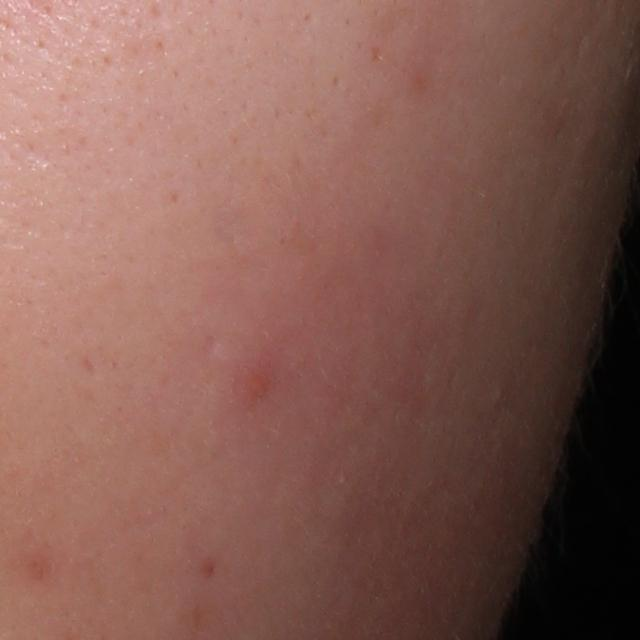atrophic_scar: (200, 335, 218, 358)
papule: (231, 361, 279, 410)
